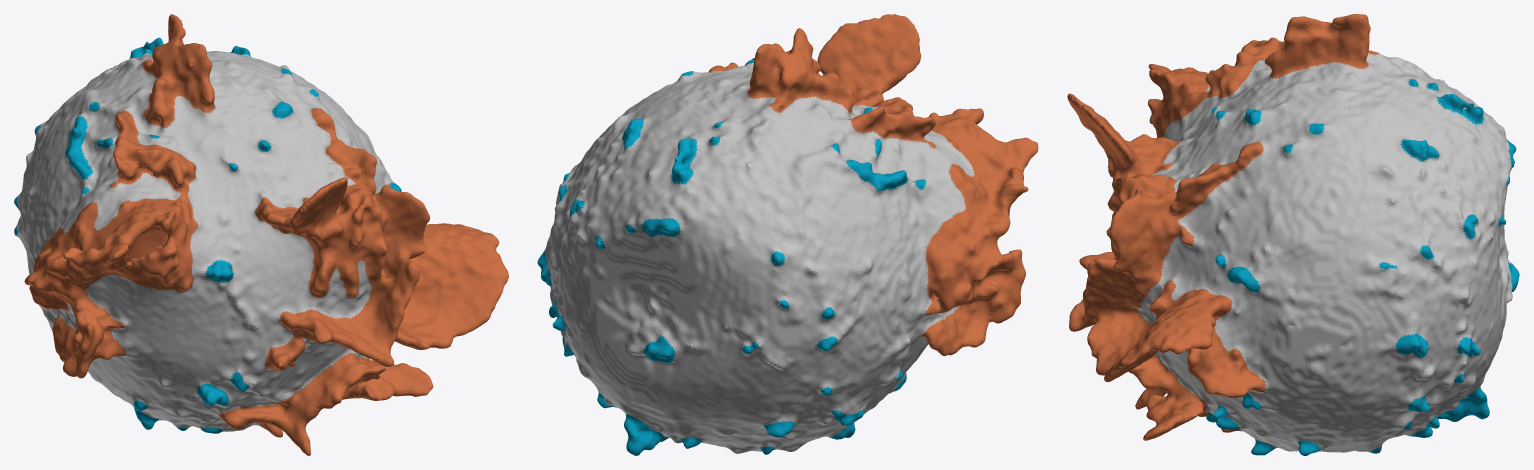
The picture shows the model from 3 angles, left to right: view 1: azimuth 30°, elevation 25°; view 2: azimuth 150°, elevation 25°; view 3: azimuth 270°, elevation 25°; orthographic projection. The views are drawn at different scales.
Size of the model in its own units: 183 by 165 by 166.
